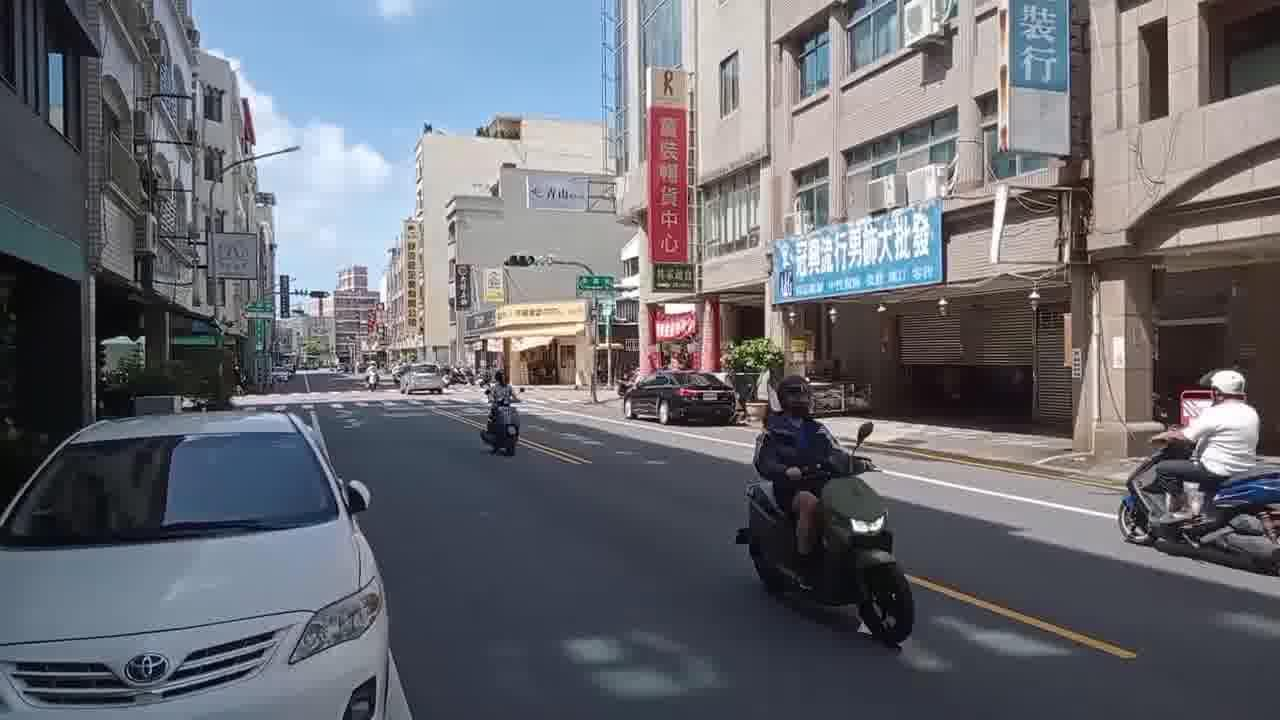driver: (731, 370, 919, 656), (1118, 366, 1280, 576), (480, 368, 524, 458)
helmet: (1198, 367, 1248, 407), (775, 374, 812, 419)
